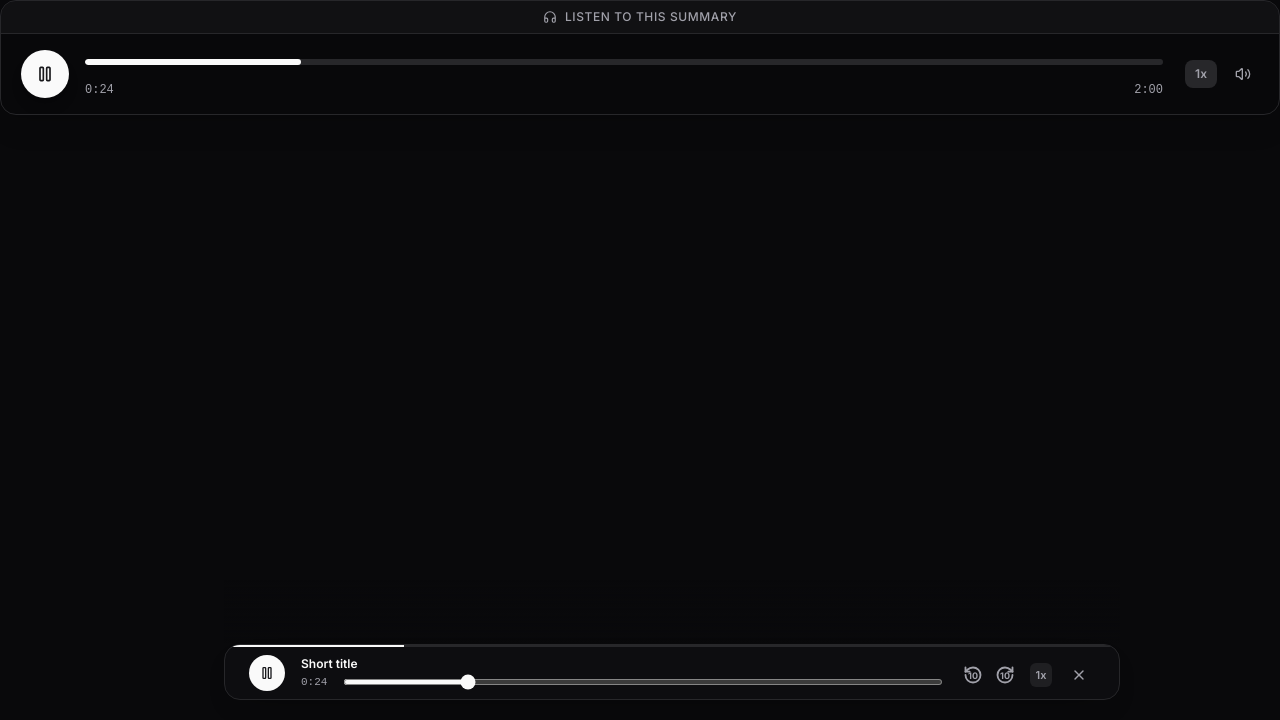
AudioPlayer › supports compact mini-player transport controls
Click the button named "Rewind 10 seconds": {"x": 973, "y": 675} 959,661 -> 987,689
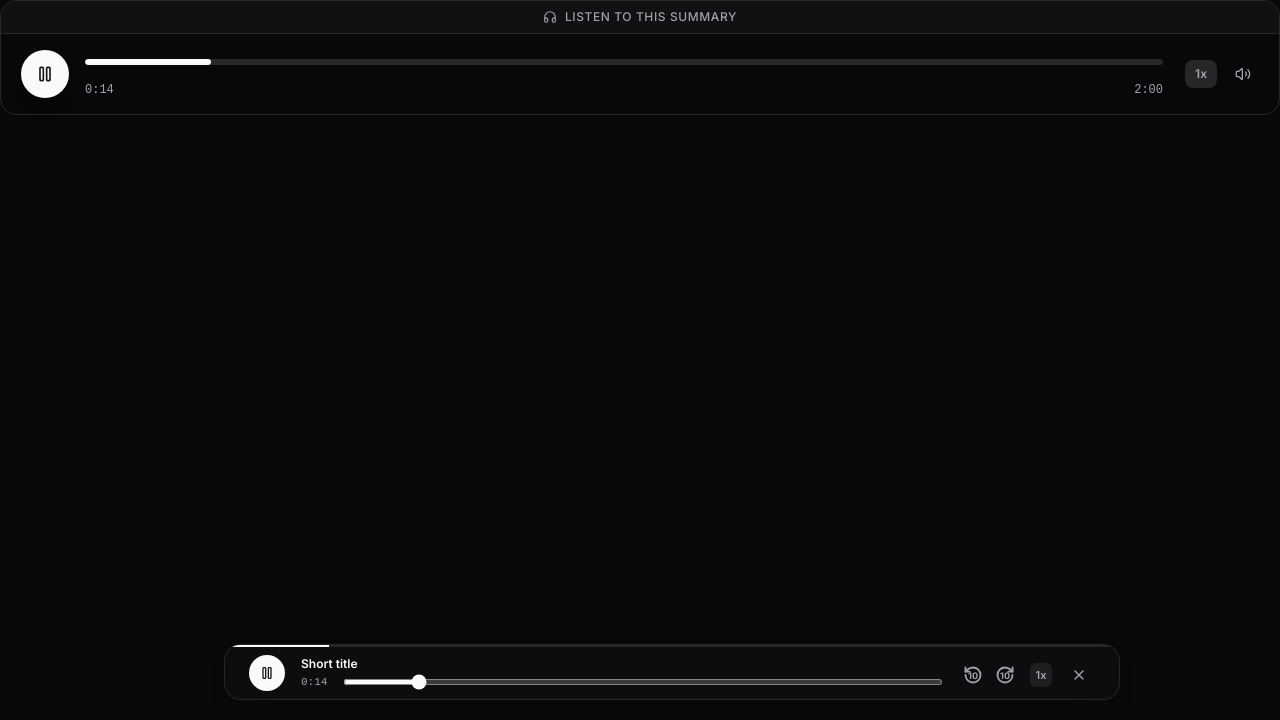
Click the button named "Forward 10 seconds": {"x": 1005, "y": 675} 991,661 -> 1019,689
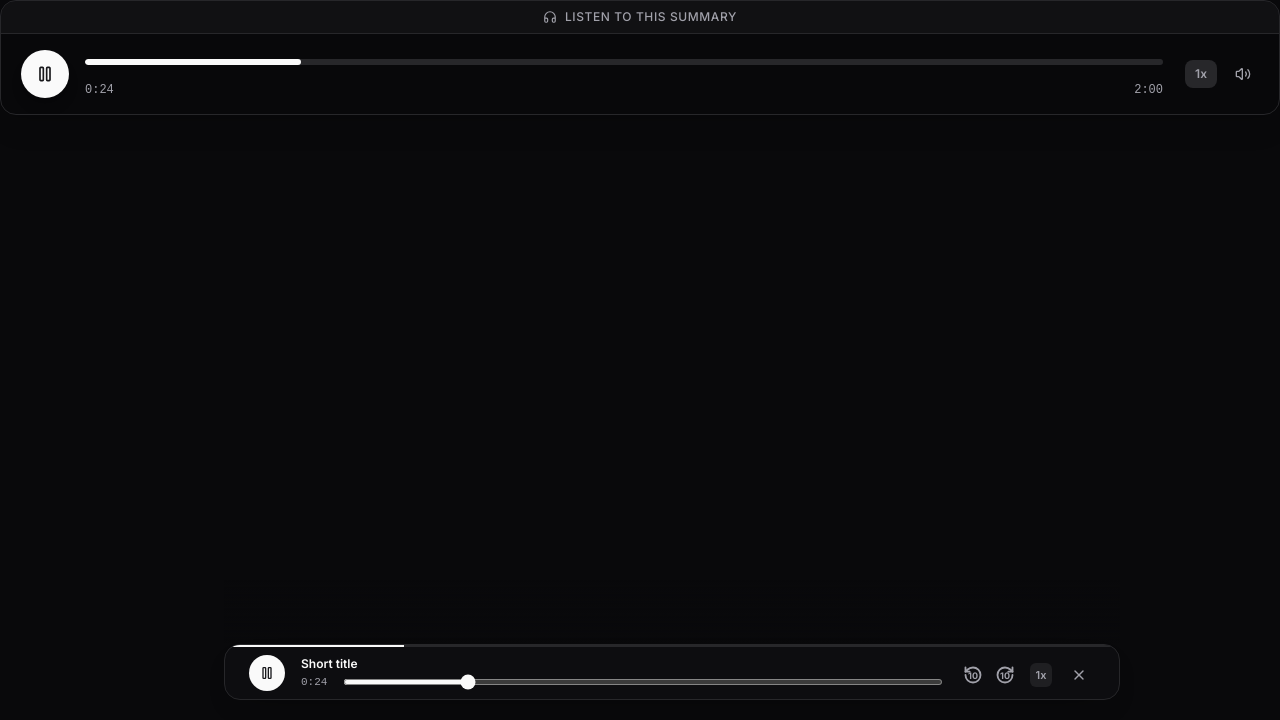
Set the slider named "Seek mini player timeline" to "40": {"x": 546, "y": 682} 343,679 -> 943,685
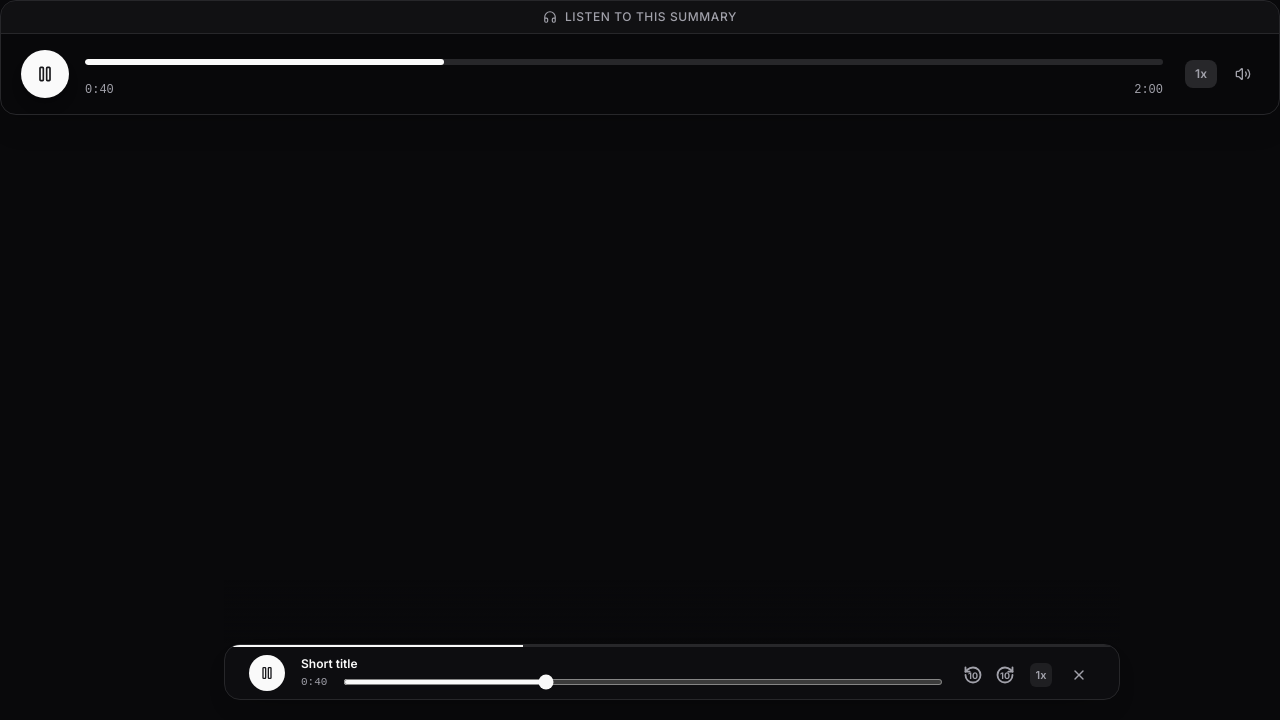
Click the button named "Change mini player playback speed": {"x": 1041, "y": 675} 1023,663 -> 1059,687
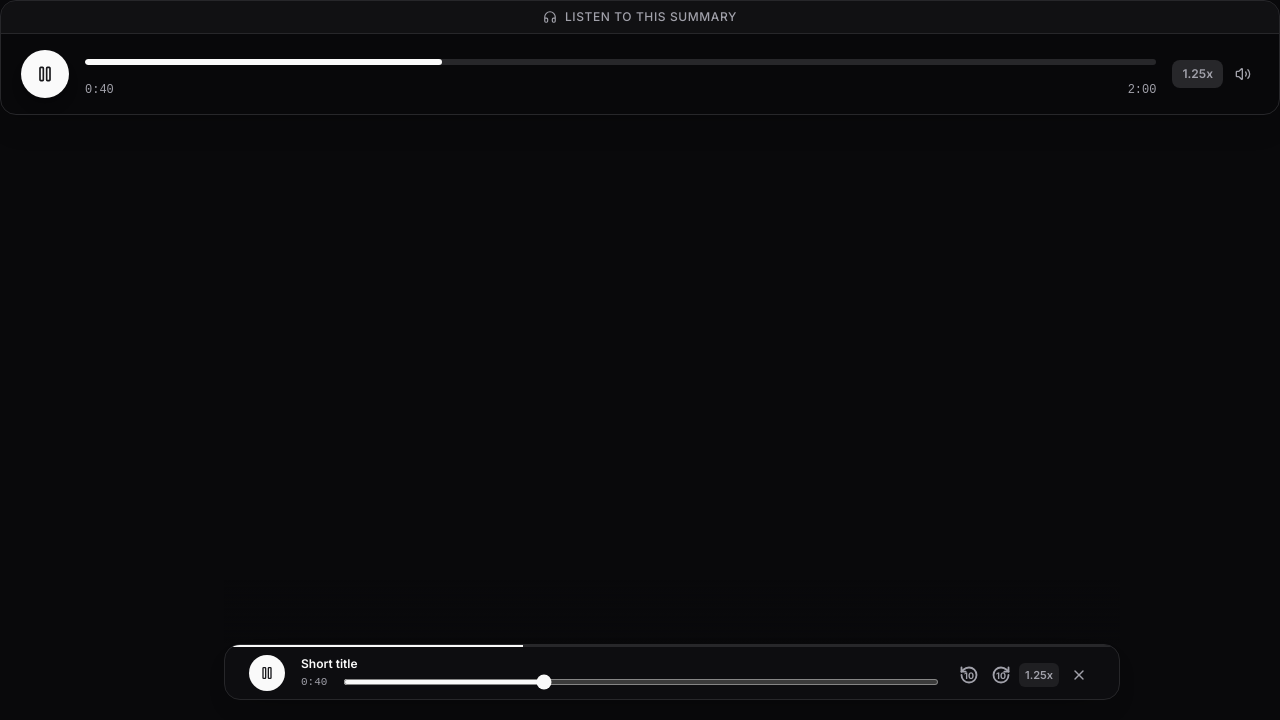
Result: the button named "Change mini player playback speed" reads "1.25x" at 1019,663 -> 1059,687
